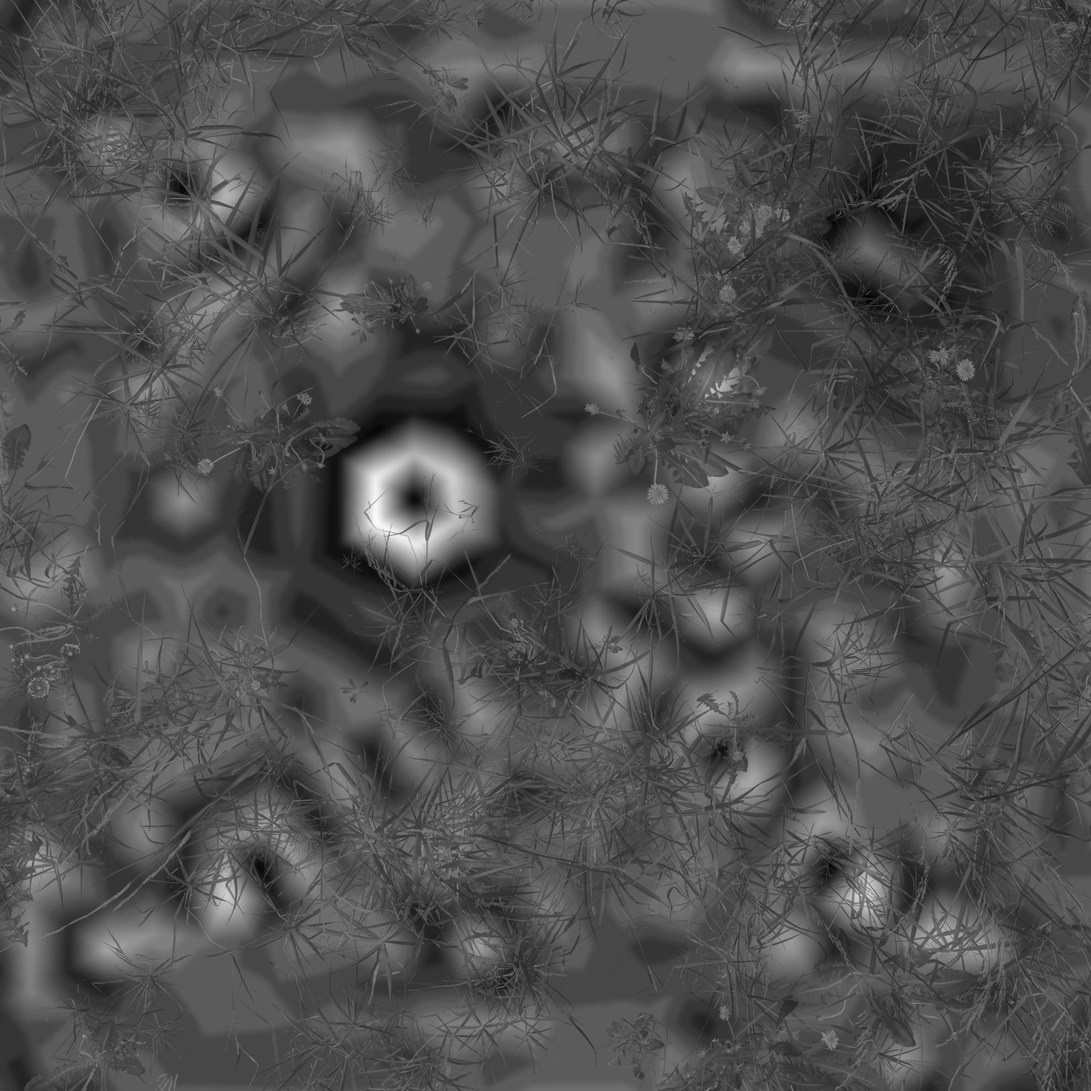landmine: (814, 172, 978, 342), (333, 433, 491, 580)
